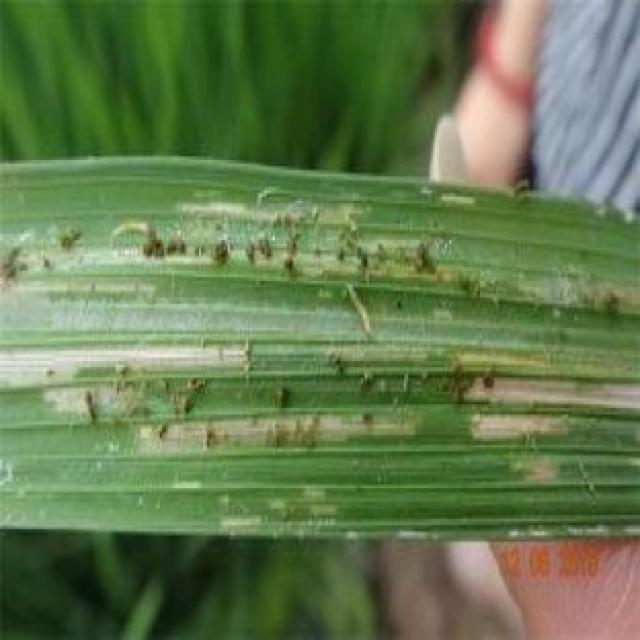rice leaf roller: (336, 219, 435, 279), (402, 357, 492, 400), (113, 222, 187, 254), (76, 363, 144, 394), (160, 375, 207, 414), (275, 217, 297, 275), (345, 285, 369, 336), (0, 246, 27, 285), (246, 236, 269, 263), (211, 240, 228, 265), (86, 390, 98, 423), (59, 230, 78, 250), (330, 353, 345, 373), (459, 279, 478, 293), (359, 371, 373, 390), (246, 345, 252, 371)
